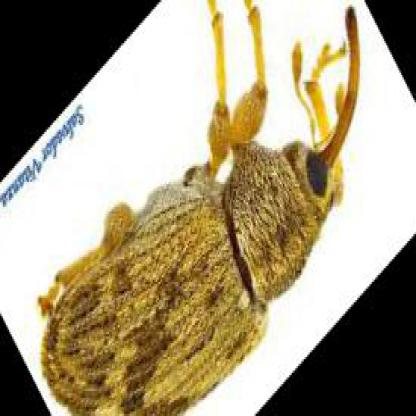ash weevil: (42, 6, 362, 414)
